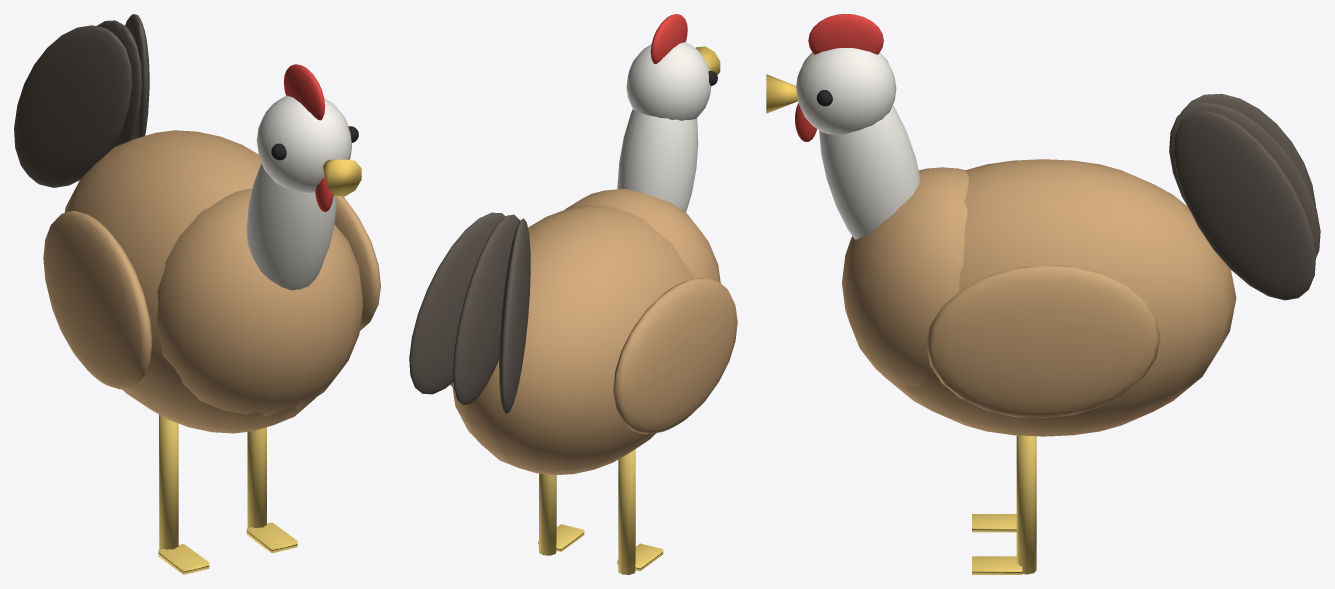
The model's file is chicken-q6.glb.
3 views of the same model, side by side, from view 1: azimuth 30°, elevation 25°; view 2: azimuth 150°, elevation 25°; view 3: azimuth 270°, elevation 25° (orthographic). The views are drawn at different scales.
Visible parts, largest first — view 1: breast, body, tail.002, wing, neck, headm, legR, wing.001, legL, tail, comb, tail.001 (+3 smaller); view 2: body, wing, tail.001, tail, neck, headm, breast, tail.002, legR, legL, comb, toes.001 (+1 smaller); view 3: body, wing.001, breast, tail.001, neck, headm, tail, legL, comb, tail.002, toes, beak (+1 smaller).
Part boxes in pixels (<box>): breast: <box>156,188,362,417</box>; body: <box>64,130,316,433</box>; tail.002: <box>14,25,132,187</box>; wing: <box>43,211,152,389</box>; neck: <box>246,163,336,290</box>; headm: <box>256,95,352,192</box>; legR: <box>159,414,178,549</box>; wing.001: <box>334,196,380,330</box>; legL: <box>247,427,266,528</box>; tail: <box>96,20,142,150</box>; comb: <box>284,64,324,120</box>; tail.001: <box>125,14,149,140</box>; body: <box>452,205,693,475</box>; wing: <box>613,278,737,434</box>; tail.001: <box>409,212,505,394</box>; tail: <box>453,214,519,405</box>; neck: <box>617,109,698,212</box>; headm: <box>626,42,711,120</box>; breast: <box>565,189,720,282</box>; tail.002: <box>499,218,530,413</box>; legR: <box>618,449,635,574</box>; legL: <box>539,473,556,555</box>; comb: <box>650,14,687,63</box>; toes.001: <box>617,543,663,571</box>; body: <box>884,159,1236,436</box>; wing.001: <box>926,265,1160,417</box>; breast: <box>842,167,968,385</box>; tail.001: <box>1173,110,1315,300</box>; neck: <box>819,105,920,239</box>; headm: <box>796,48,896,134</box>; tail: <box>1169,102,1320,257</box>; legL: <box>1016,435,1036,574</box>; comb: <box>808,14,883,54</box>; tail.002: <box>1181,93,1315,206</box>; toes: <box>972,556,1022,574</box>; beak: <box>766,74,797,113</box>.
Bounding box in the file's own units: 0.3443 × 0.703 × 0.6602.
